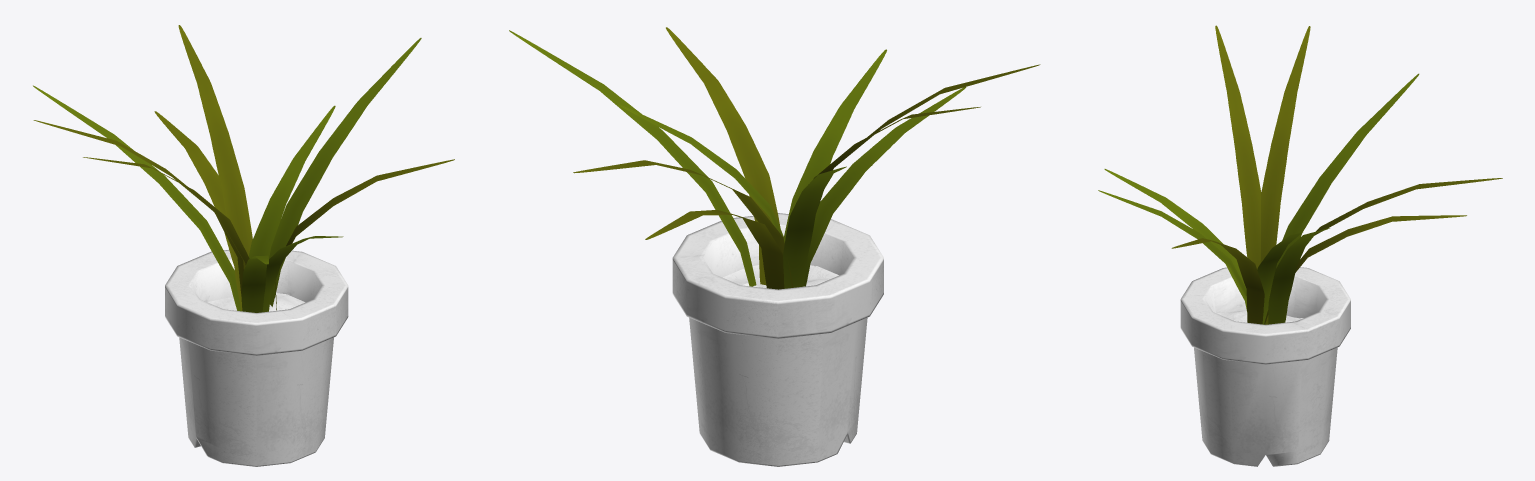
Rendered from Plant_D.fbx.
The picture shows the model from 3 angles, left to right: view 1: azimuth 30°, elevation 25°; view 2: azimuth 150°, elevation 25°; view 3: azimuth 270°, elevation 25°; orthographic projection. The views are drawn at different scales.
Parts seen in each view (by area): view 1: U_Plant_D; view 2: U_Plant_D; view 3: U_Plant_D.
Boxes of the visible parts, x1,y1,x2,y2 form: U_Plant_D: (33, 25, 454, 466); U_Plant_D: (509, 27, 1040, 466); U_Plant_D: (1098, 25, 1502, 466).
Size of the model in its own units: 97.86 by 77.94 by 92.14.
3 materials, 3 textured.
